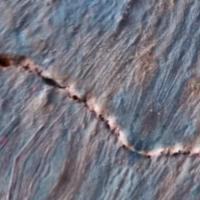crack: (0, 32, 199, 194)
